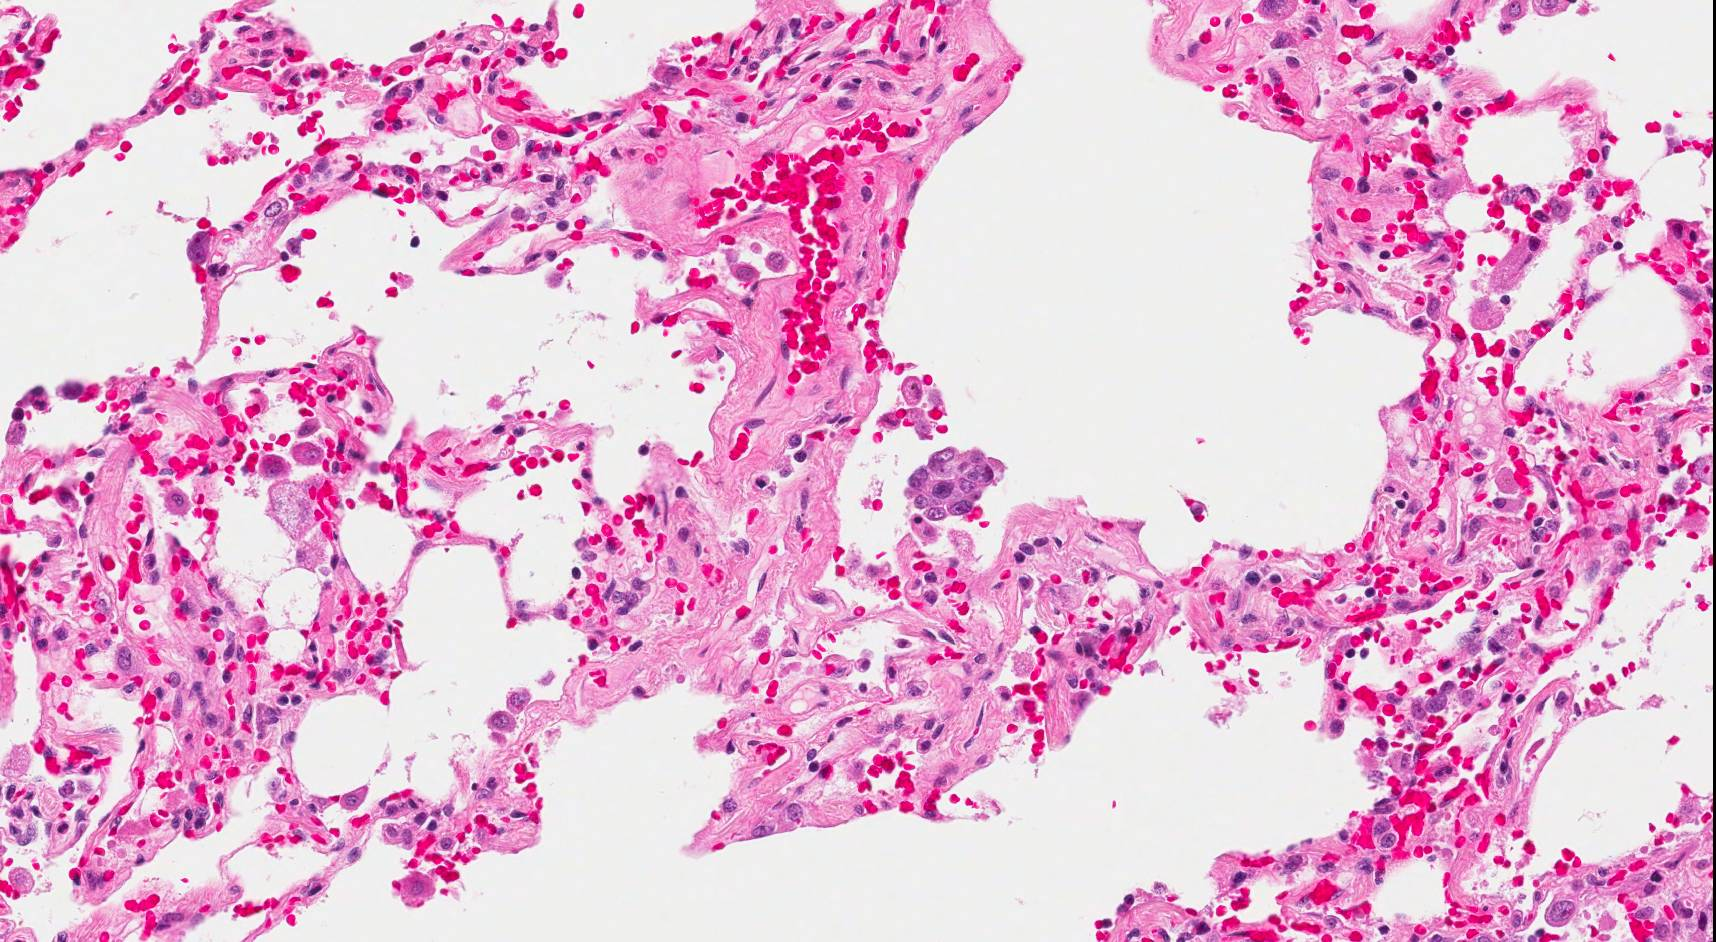stas: (895, 443, 1007, 522)
